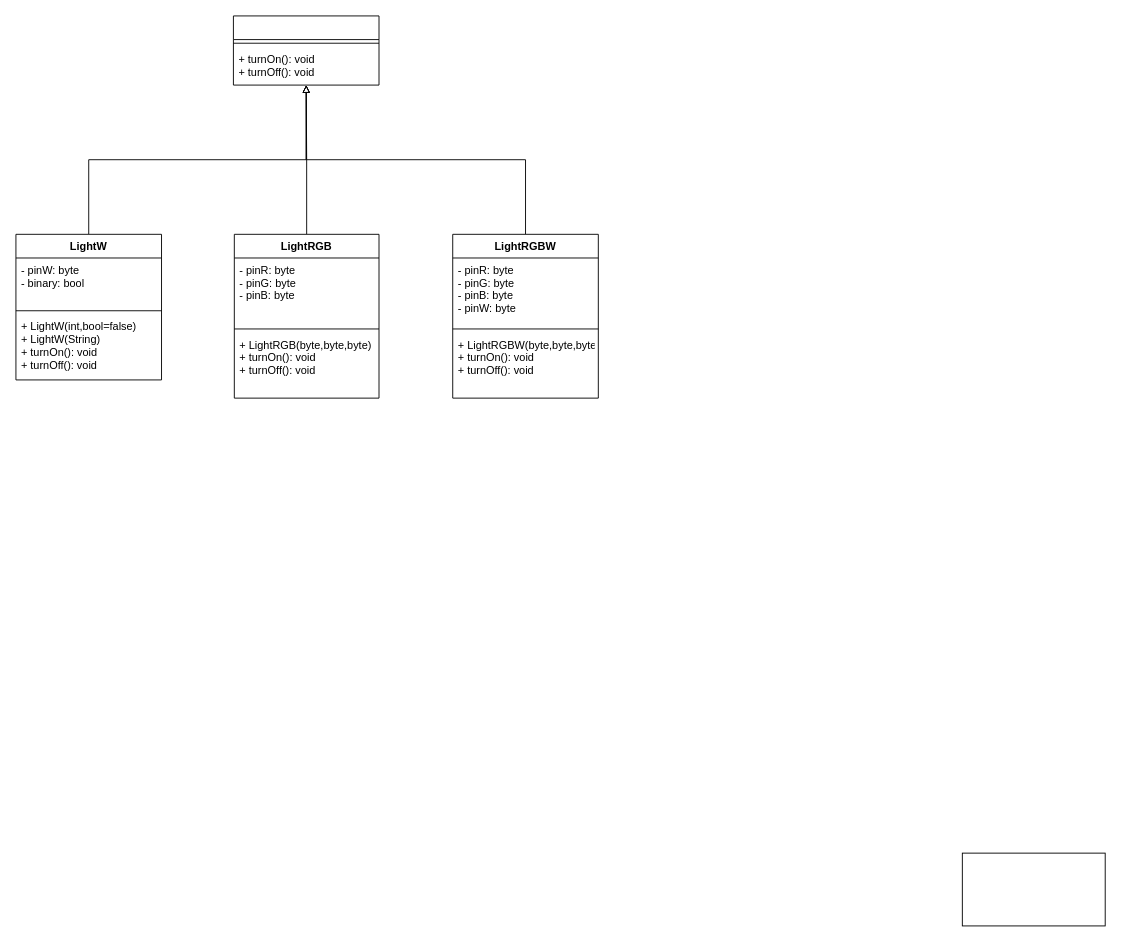
Image size: 1121x942. Some labels were removed from this diagram. Each missing label, with the box of its shape:
Light: (233, 15, 379, 85)
Ray-tracer Owen Ames Chiara Bakker Sam Cornelisse Daniël van der Drift: (961, 852, 1105, 926)
